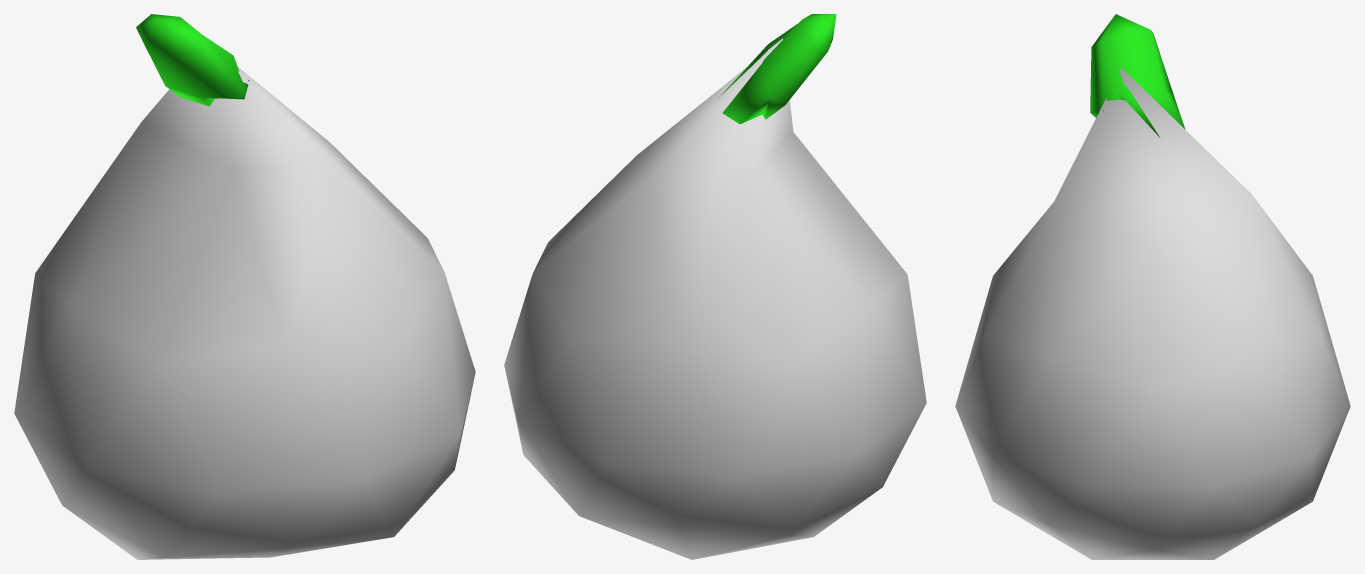
The model's file is mortartulipbulb.fbx.
The picture shows the model from 3 angles, left to right: view 1: azimuth 30°, elevation 25°; view 2: azimuth 150°, elevation 25°; view 3: azimuth 270°, elevation 25°; orthographic projection. The views are drawn at different scales.
Visible parts, largest first — view 1: Icosphere; view 2: Icosphere; view 3: Icosphere.
Boxes of the visible parts, bbox=[...] form: Icosphere: bbox=[14, 14, 475, 559]; Icosphere: bbox=[504, 14, 926, 559]; Icosphere: bbox=[955, 14, 1350, 559].
Bounding box in the file's own units: 163 × 223 × 172.
